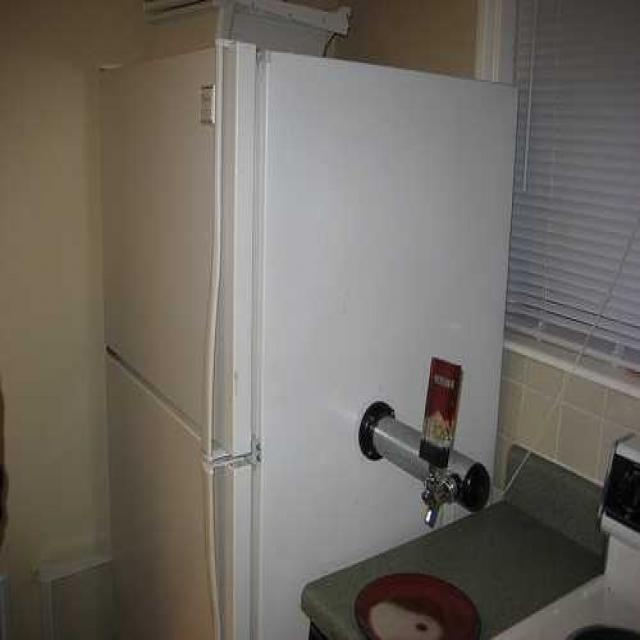refrigerator: (98, 45, 270, 640)
